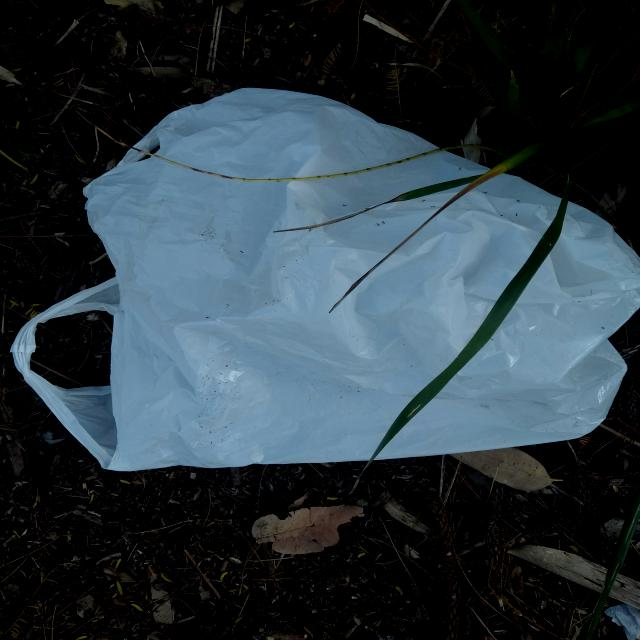Normal paper: (604, 603, 639, 640)
Single-use carrier bag: (10, 88, 639, 471)
